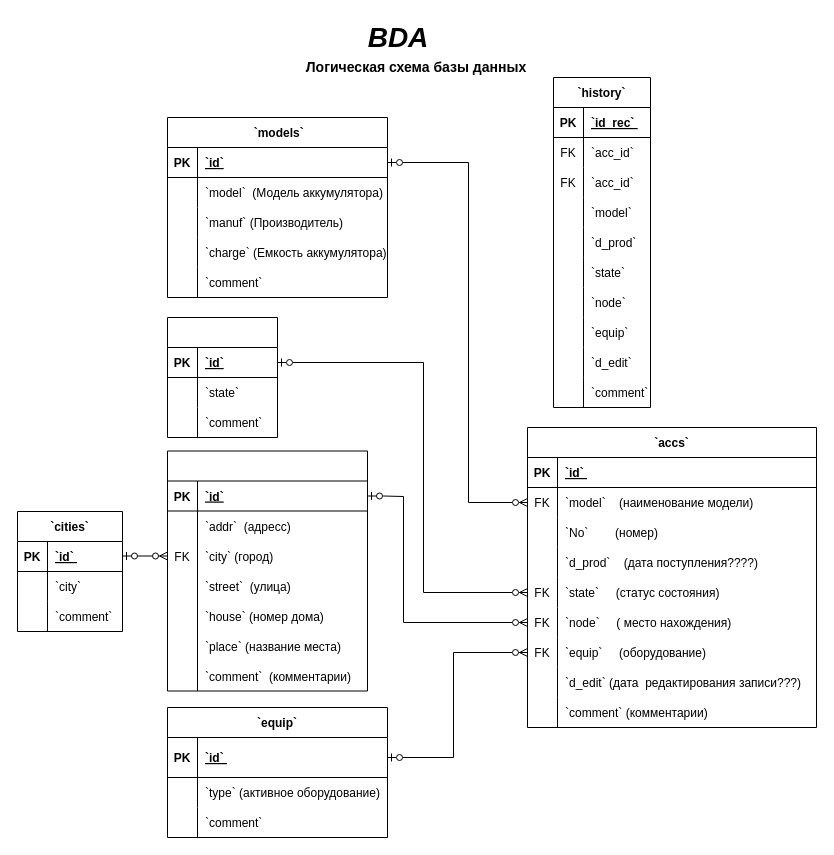
Some shapes in this 834 by 855 pixel diagram are drawn without their labels. Each missing label, with the box of its shape:
`nodes`: (166, 450, 368, 691)
`states`: (166, 316, 278, 438)
